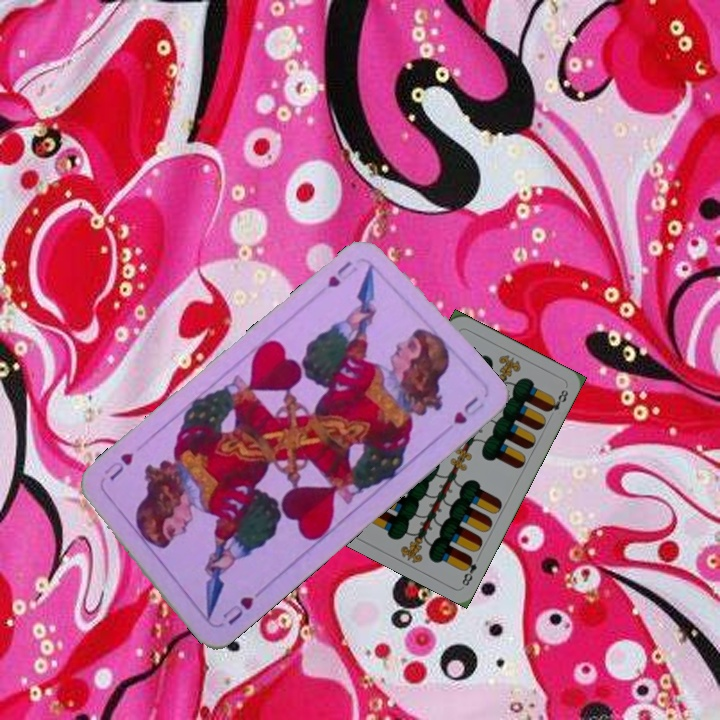E8: (458, 552, 480, 589)
HU: (218, 592, 256, 628), (323, 257, 355, 291)
